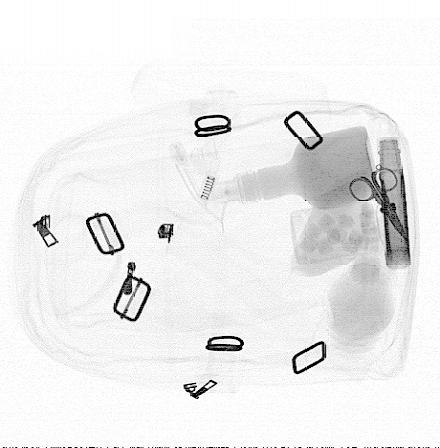Scissors: (347, 161, 409, 246)
